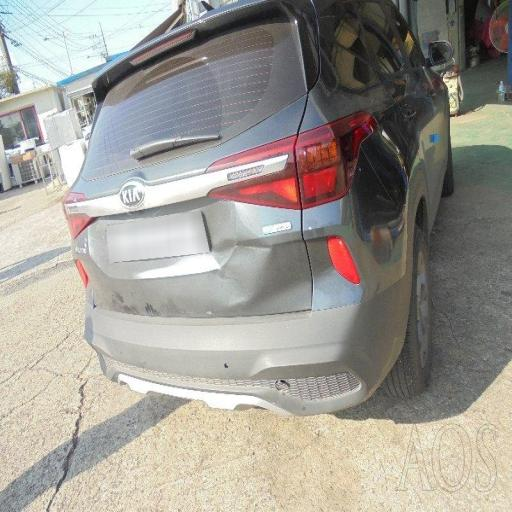dent: (91, 170, 322, 334)
